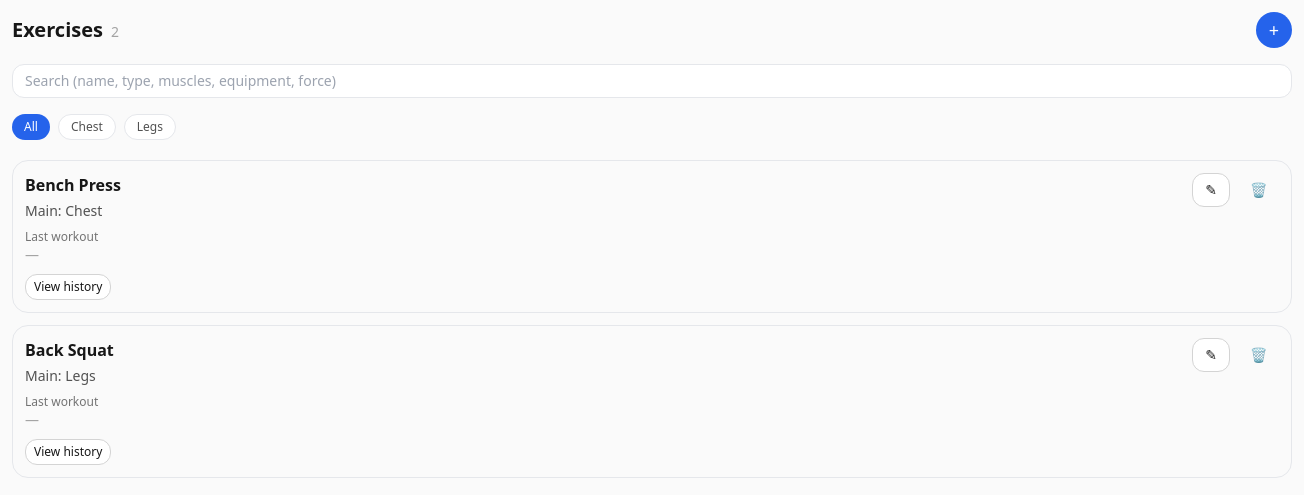
Test: ExerciseManager › filters by muscle-group chip
Click the button "Legs" at coordinates (150, 127), box top-left (124, 114), bottom-right (176, 140)
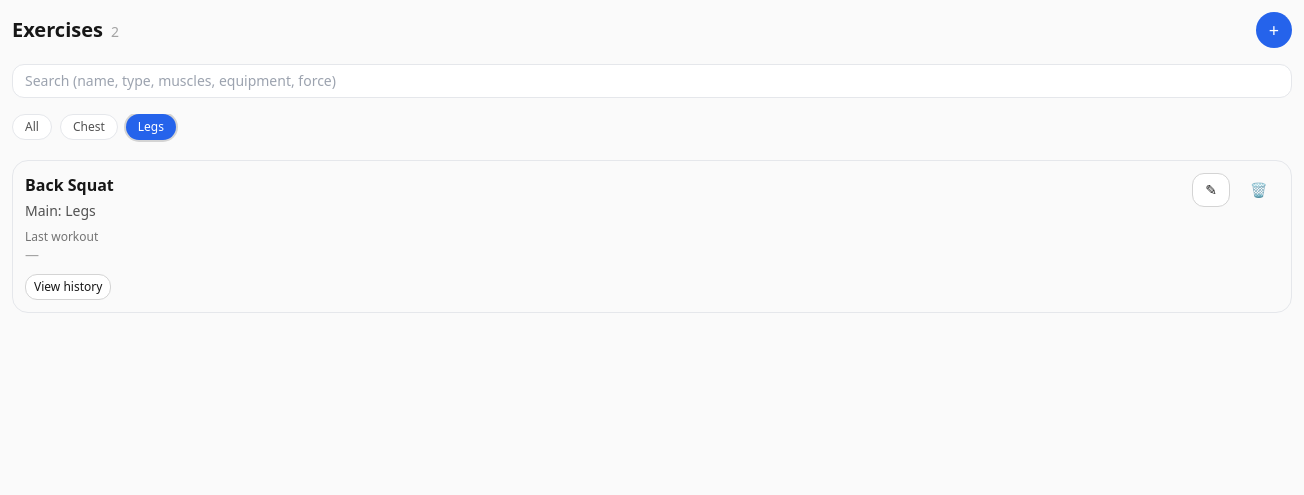
Check: the heading "Back Squat" is shown, box top-left (25, 173), bottom-right (114, 197)
Check: the heading "Bench Press" is gone
